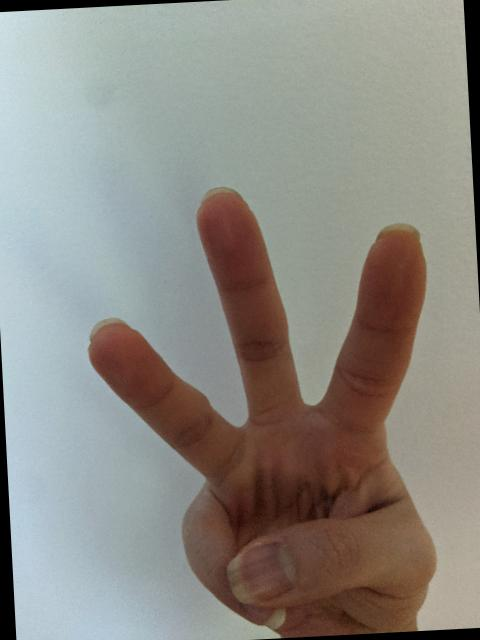W: (73, 168, 451, 640)
